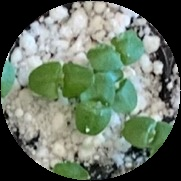Basil: (78, 72, 114, 136), (30, 62, 86, 102), (88, 31, 143, 69), (124, 115, 181, 151), (96, 63, 139, 110)
